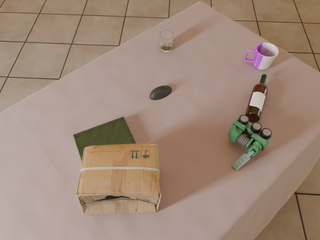book: (73, 117, 136, 161)
bottle: (245, 74, 268, 123)
box: (76, 143, 161, 215)
cup: (245, 43, 278, 70), (160, 30, 174, 52)
mouse: (150, 86, 172, 100)
toy_car: (229, 115, 272, 170)
